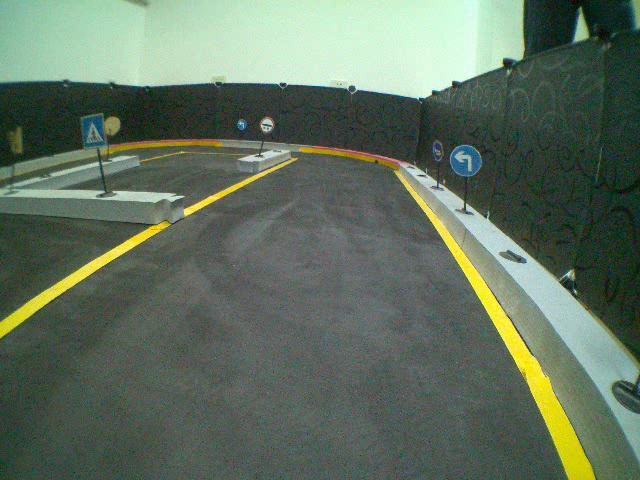Check: (258, 115, 274, 134)
crossing: (78, 116, 110, 149)
horn: (428, 137, 446, 165)
turn: (453, 145, 484, 178), (235, 116, 248, 131)
